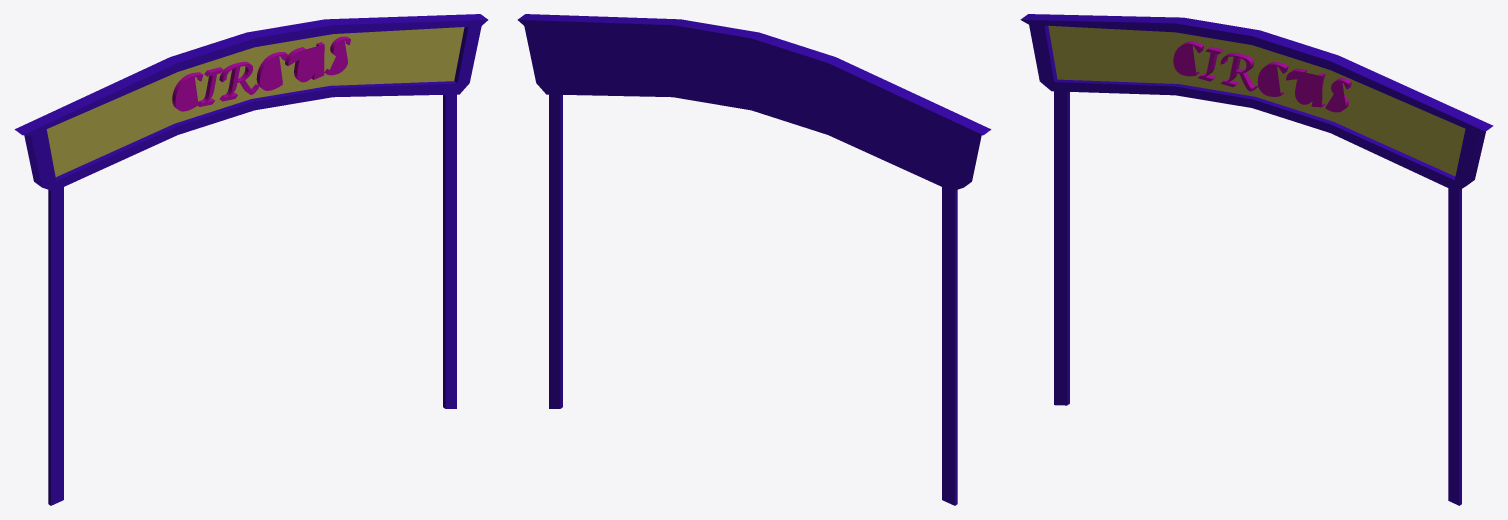
Rendered from Circus-Sign.fbx.
3 views of the same model, side by side, from view 1: azimuth 30°, elevation 25°; view 2: azimuth 150°, elevation 25°; view 3: azimuth 330°, elevation 25° (orthographic).
Visible parts, largest first — view 1: pCube9; view 2: pCube9; view 3: pCube9.
Boxes of the visible parts, x1,y1,x2,y2 form: pCube9: [14, 14, 488, 505]; pCube9: [517, 14, 991, 505]; pCube9: [1020, 14, 1493, 505].
Bounding box in the file's own units: 16.23 × 14.06 × 0.4829.
